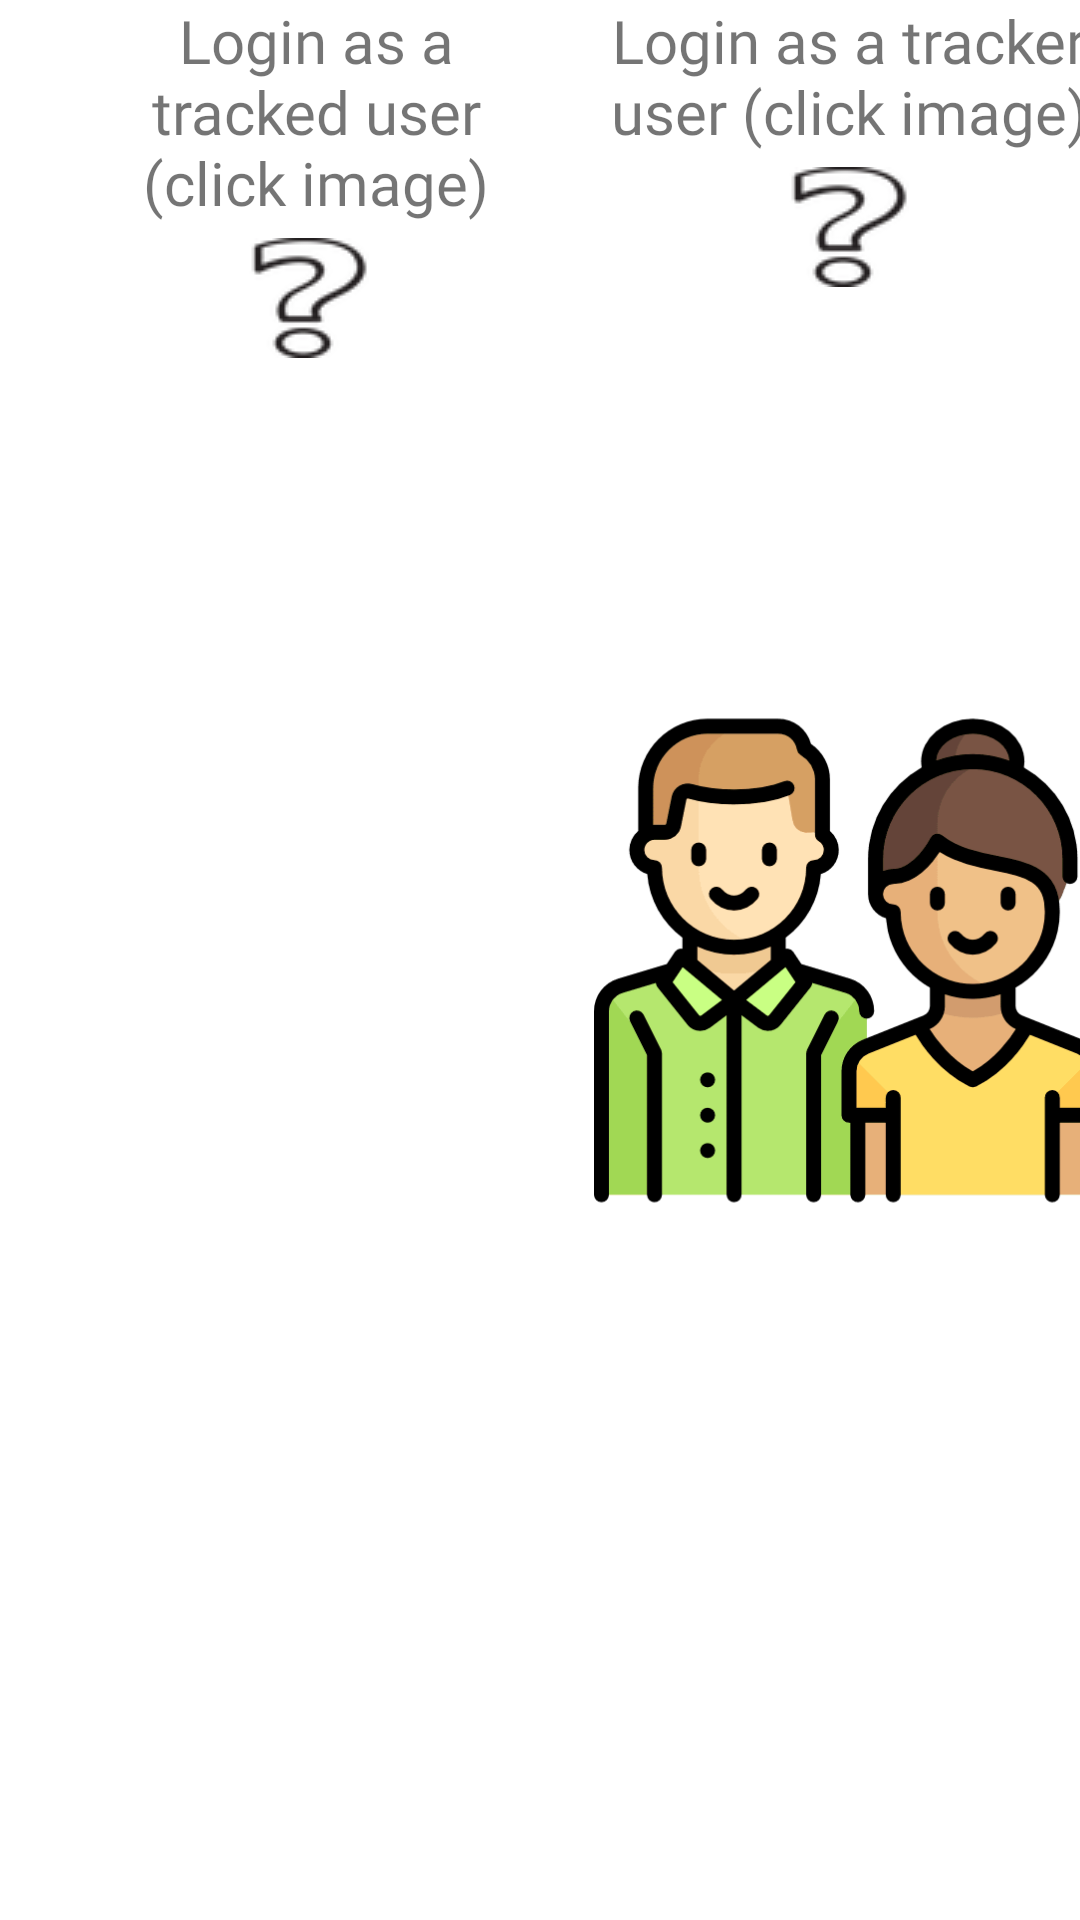

Icon click points for this 1080*1920 phone screenshot, format (x,y):
questionmark: (849,227), (309,298)
